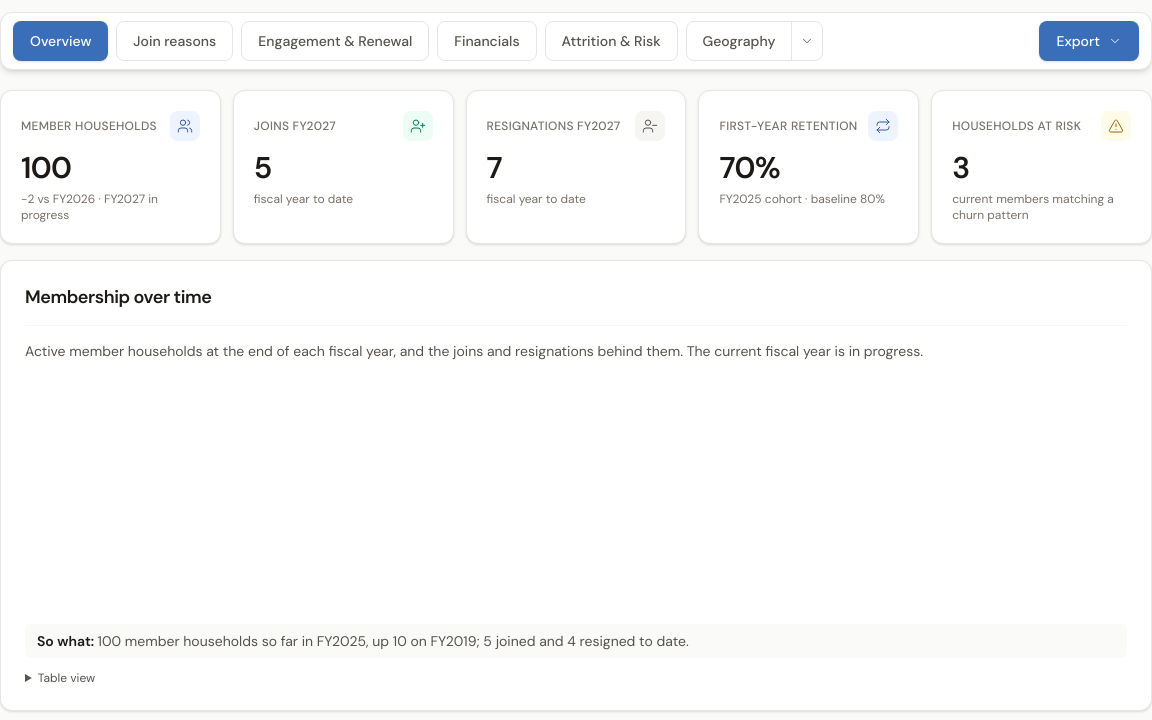
Test: InsightsPage › reports an unready report surface without invoking the native PDF command
Expected: the heading "Membership over time" is shown, [25,285,211,309]
Click the button "Export" at (1089, 41), box [1039,21,1139,61]
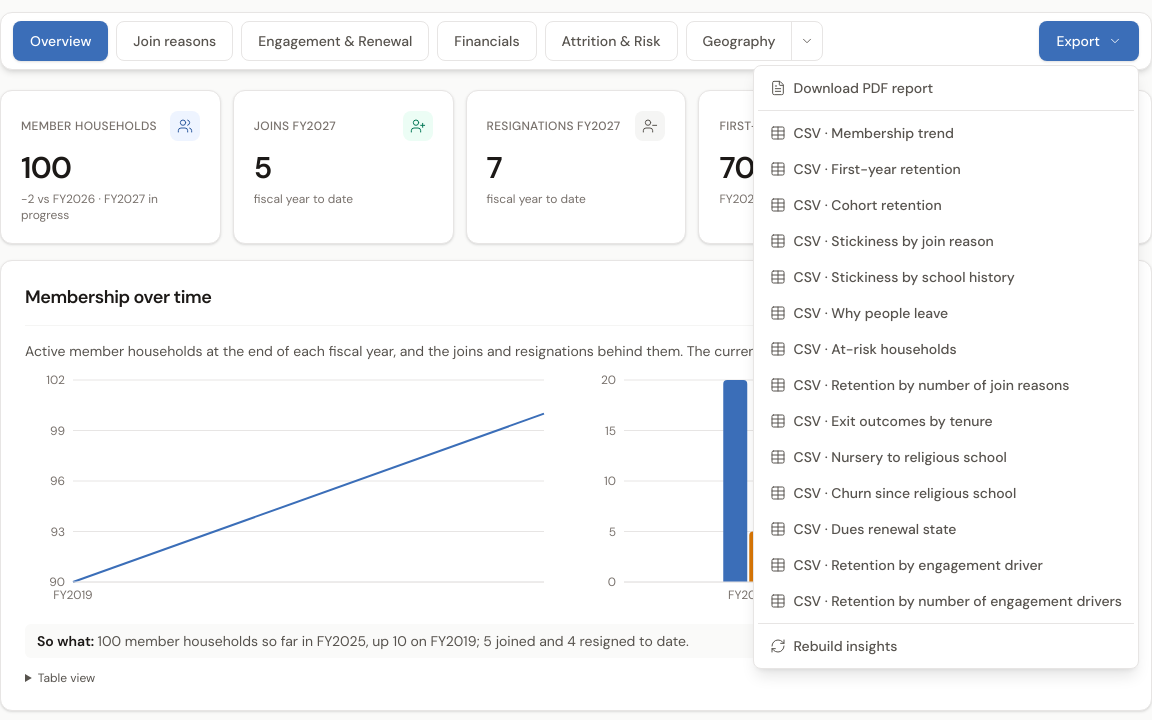
Click the menu item "Download PDF report" at (863, 88), box [758,70,1134,106]
Wait 3100 ms
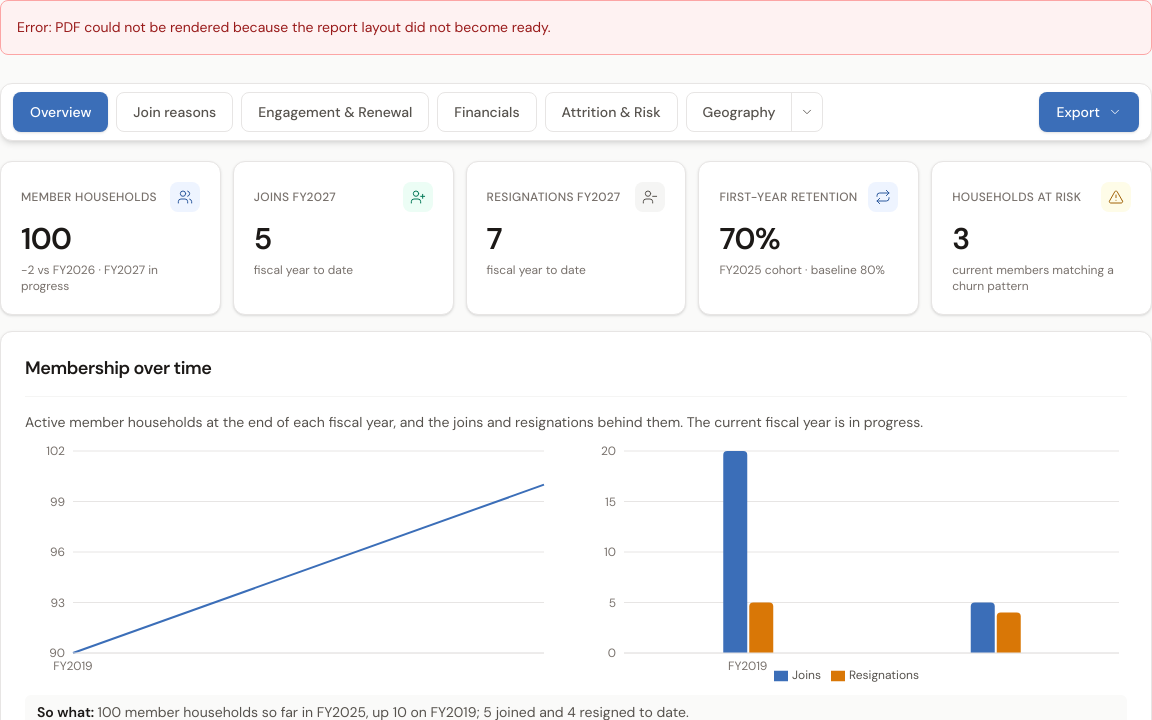
Now the text "PDF could not be rendered" is shown, box [17,18,551,36]
